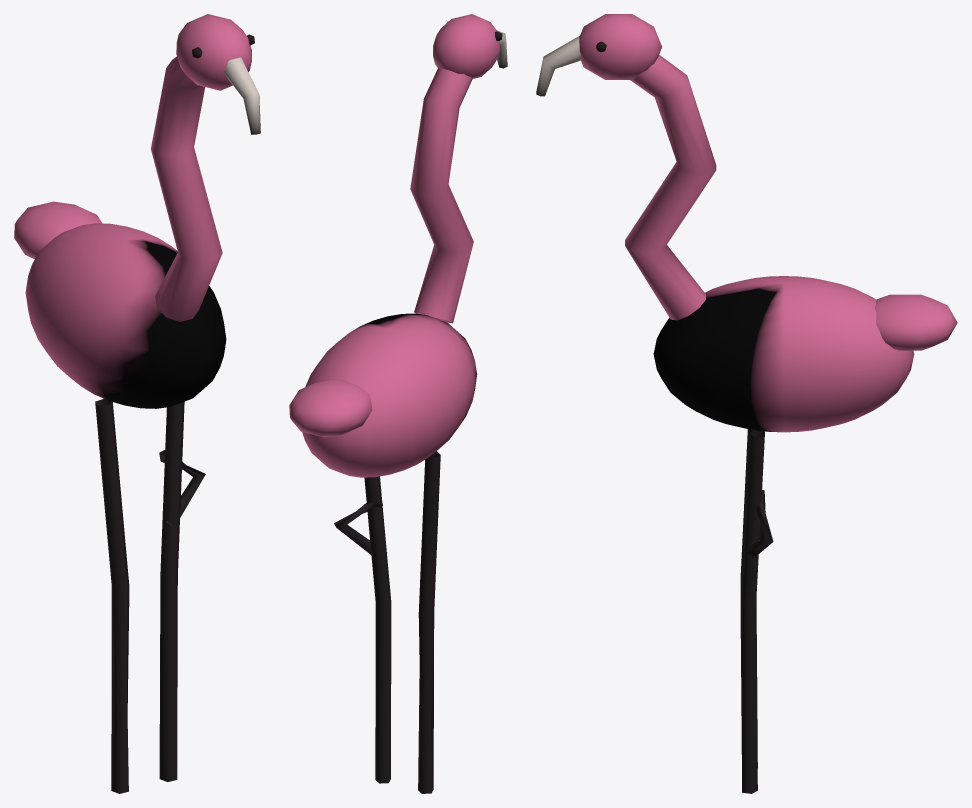
File: furn_disp_flamingo.glb
The picture shows the model from 3 angles, left to right: view 1: azimuth 30°, elevation 25°; view 2: azimuth 150°, elevation 25°; view 3: azimuth 270°, elevation 25°; orthographic projection. The views are drawn at different scales.
Parts seen in each view (by area): view 1: furn_disp_flamingo_main; view 2: furn_disp_flamingo_main; view 3: furn_disp_flamingo_main.
Part boxes in pixels (<box>): furn_disp_flamingo_main: <box>14,14,260,793</box>; furn_disp_flamingo_main: <box>289,14,507,793</box>; furn_disp_flamingo_main: <box>536,14,957,793</box>.
Bounding box in the file's own units: 0.18 × 0.97 × 0.485.
